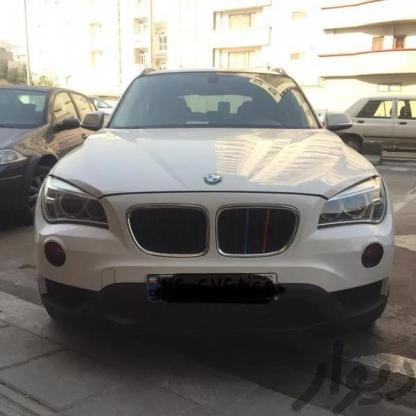Car: (36, 54, 396, 350), (0, 62, 113, 215), (315, 83, 416, 171)
